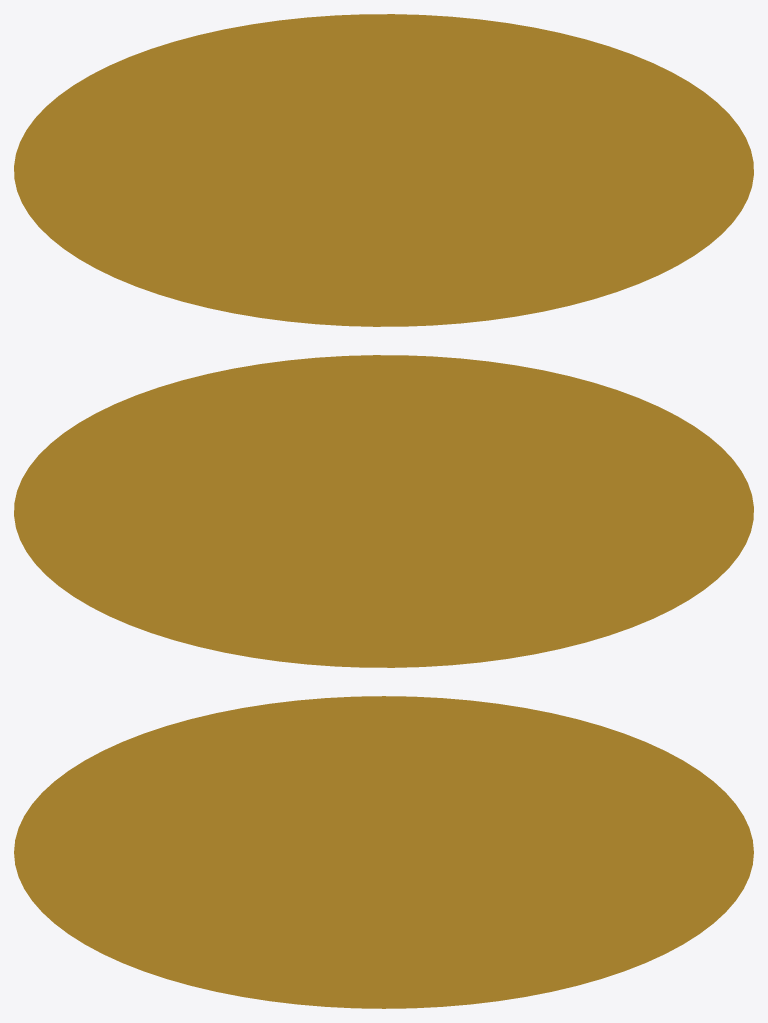
The model's file is arena-circle.glb.
The picture shows the model from 3 angles, top to bottom: view 1: azimuth 30°, elevation 25°; view 2: azimuth 150°, elevation 25°; view 3: azimuth 270°, elevation 25°; orthographic projection.
Size of the model in its own units: 1 by 2.22e-16 by 1.
